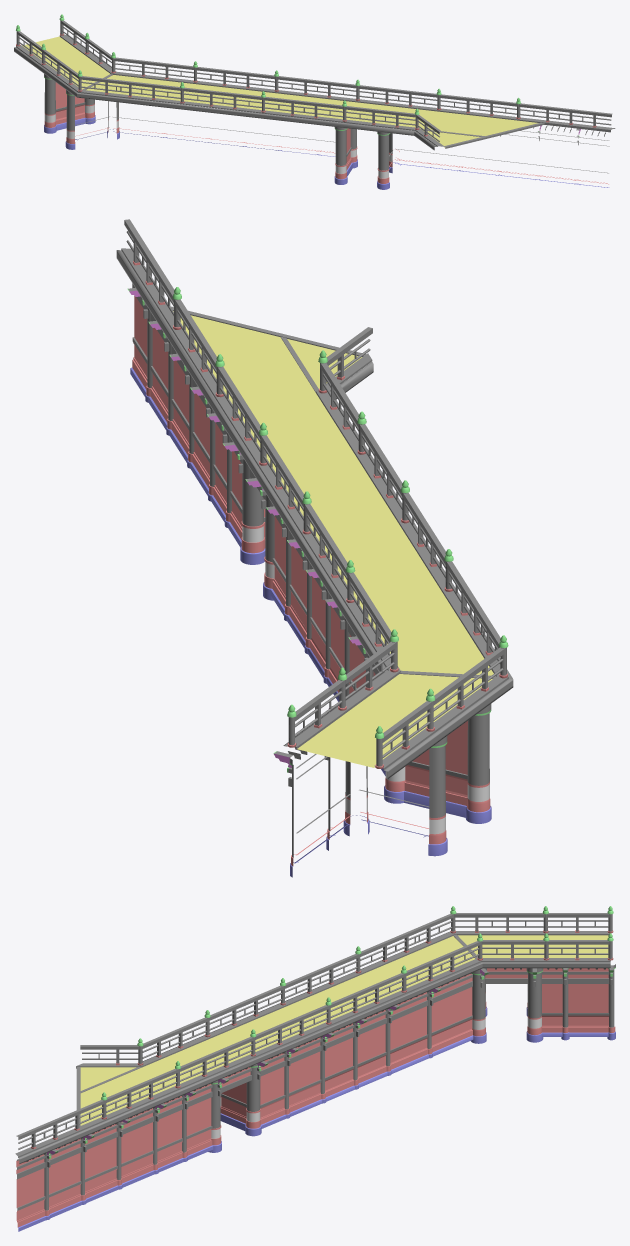
Rendered from SM_ENV_KNVLLG03_Bridge_BendA.gltf.
The picture shows the model from 3 angles, top to bottom: view 1: azimuth 30°, elevation 25°; view 2: azimuth 150°, elevation 25°; view 3: azimuth 270°, elevation 25°; orthographic projection. The views are drawn at different scales.
Visible parts, largest first — view 1: SM_ENV_KNVLLG03_Bridge_BendA; view 2: SM_ENV_KNVLLG03_Bridge_BendA; view 3: SM_ENV_KNVLLG03_Bridge_BendA.
Part boxes in pixels (box(x1,y1,x2,y2)): SM_ENV_KNVLLG03_Bridge_BendA: box(14, 14, 615, 189); SM_ENV_KNVLLG03_Bridge_BendA: box(116, 219, 513, 877); SM_ENV_KNVLLG03_Bridge_BendA: box(15, 906, 615, 1231).
Bounding box in the file's own units: 38.21 × 8.37 × 42.6.
